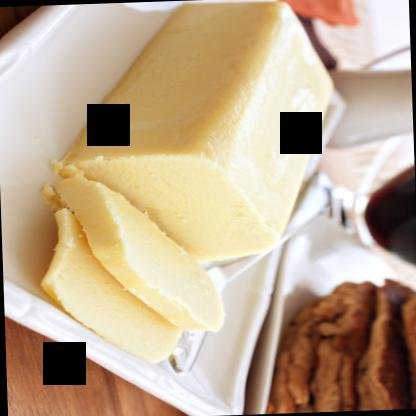butter: (60, 0, 340, 264), (44, 176, 228, 368)
